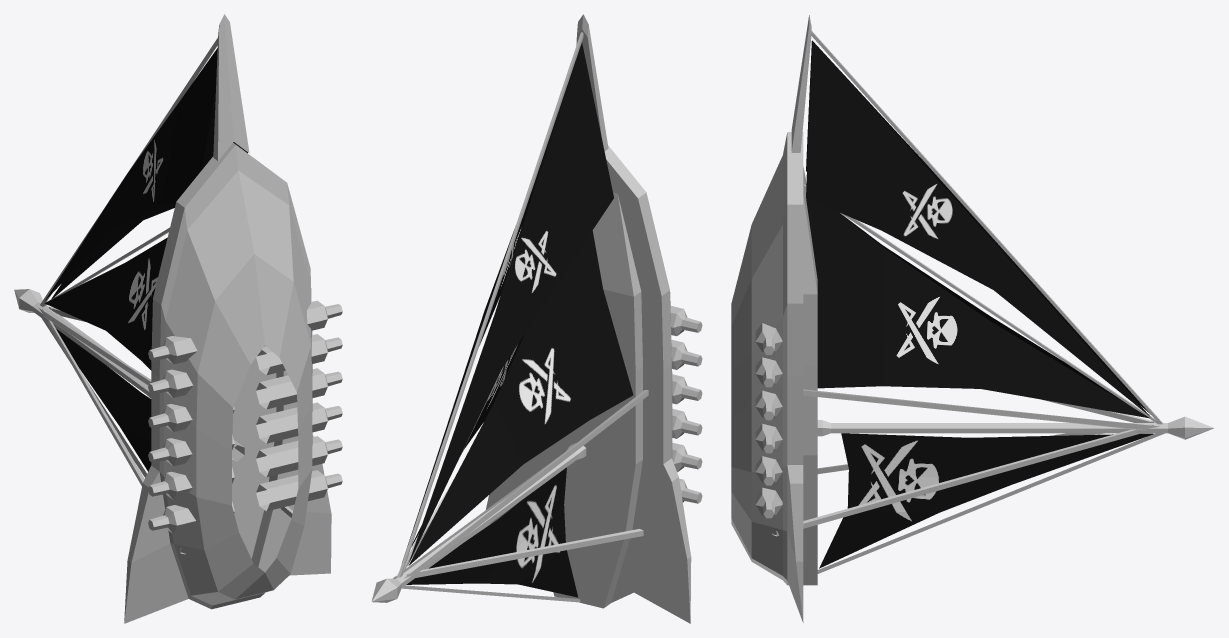
File: pirate_speed_my_8.fbx
3 views of the same model, side by side, from view 1: azimuth 30°, elevation 25°; view 2: azimuth 150°, elevation 25°; view 3: azimuth 270°, elevation 25° (orthographic). The views are drawn at different scales.
Visible parts, largest first — view 1: Cube.243; view 2: Cube.243; view 3: Cube.243.
Part boxes in pixels (box(x1,y1,x2,y2)): Cube.243: box(14, 14, 342, 623); Cube.243: box(371, 14, 702, 623); Cube.243: box(731, 15, 1214, 622).
Size of the model in its own units: 226 by 611 by 476.
